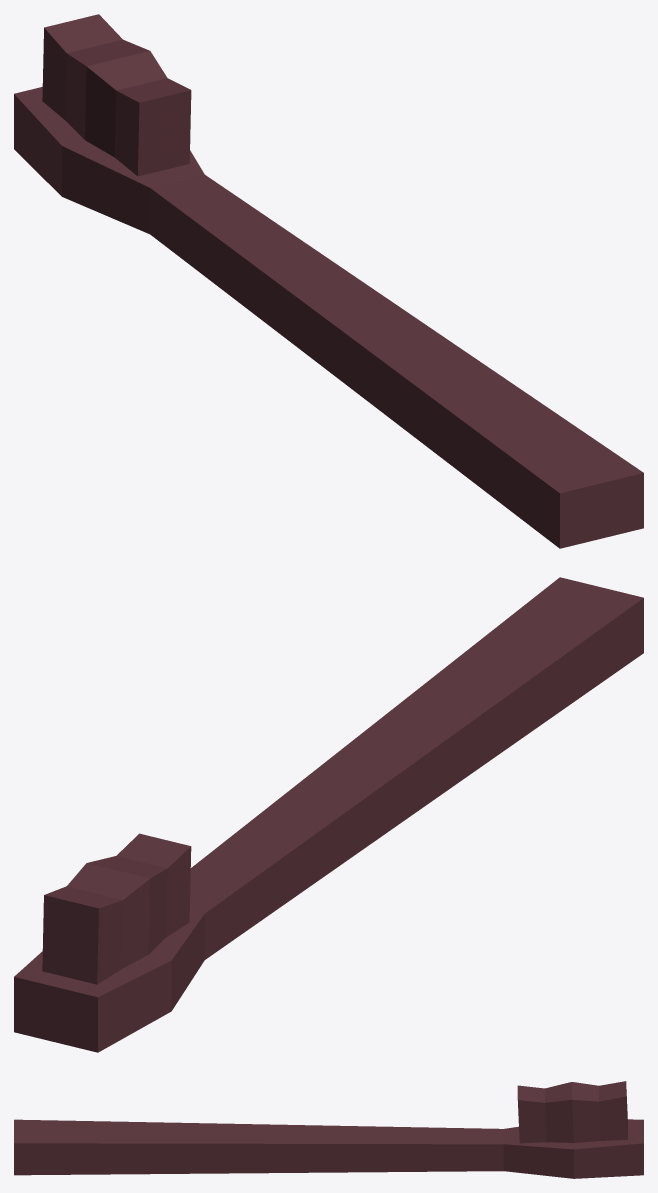
The model's file is furniture-toothbrush.glb.
3 views of the same model, one above another, from view 1: azimuth 30°, elevation 25°; view 2: azimuth 150°, elevation 25°; view 3: azimuth 270°, elevation 25° (orthographic). The views are drawn at different scales.
Parts seen in each view (by area): view 1: toothbrush; view 2: toothbrush; view 3: toothbrush.
Part boxes in pixels (bbox=[...]): toothbrush: bbox=[14, 14, 643, 548]; toothbrush: bbox=[14, 577, 643, 1052]; toothbrush: bbox=[14, 1081, 643, 1178].
Bounding box in the file's own units: 0.0261 × 0.0294 × 0.225.
